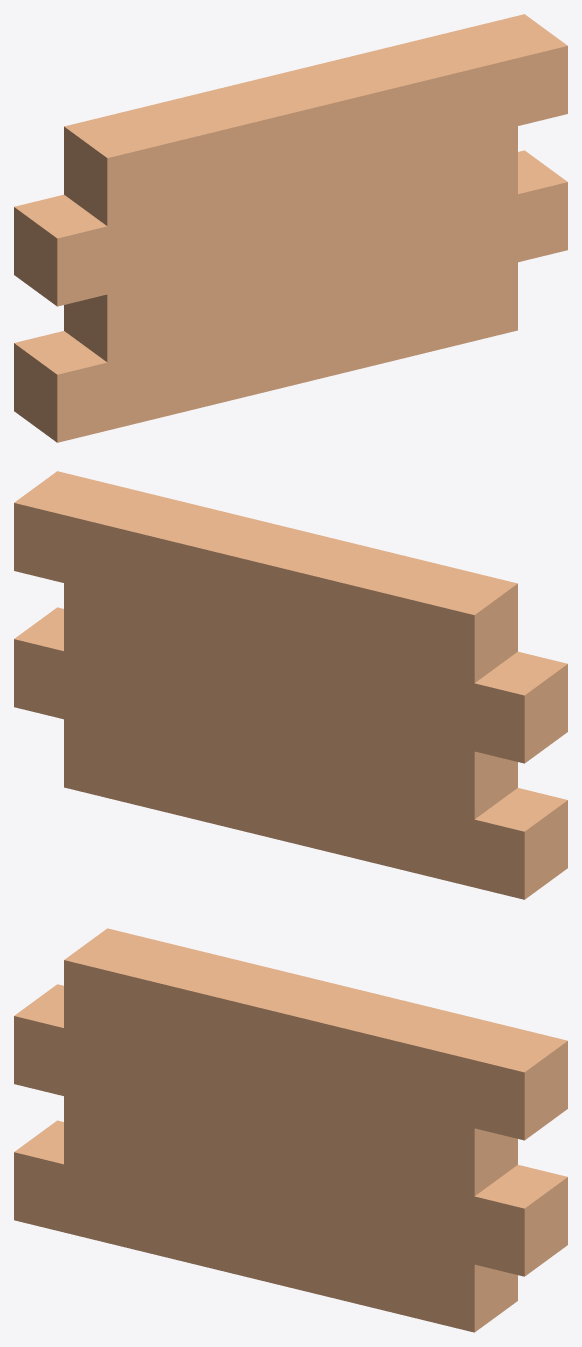
The picture shows the model from 3 angles, top to bottom: view 1: azimuth 30°, elevation 25°; view 2: azimuth 150°, elevation 25°; view 3: azimuth 330°, elevation 25°; orthographic projection.
Visible parts, largest first — view 1: Brick.012, Brick.008, Brick, Brick.014, Brick.013, Brick.015, Brick.004, Brick.007, Brick.003, Brick.001, Brick.006, Brick.009 (+4 smaller); view 2: Brick.012, Brick.008, Brick, Brick.014, Brick.013, Brick.015, Brick.004, Brick.007, Brick.003, Brick.001, Brick.006, Brick.009 (+4 smaller); view 3: Brick.015, Brick.007, Brick.013, Brick.012, Brick.014, Brick.003, Brick.011, Brick.008, Brick, Brick.005, Brick.001, Brick.002 (+4 smaller).
Part boxes in pixels (bbox=[...]): Brick.012: bbox=[64, 98, 222, 226]; Brick.008: bbox=[14, 194, 172, 306]; Brick: bbox=[14, 331, 172, 442]; Brick.014: bbox=[295, 42, 452, 169]; Brick.013: bbox=[179, 70, 337, 197]; Brick.015: bbox=[410, 14, 567, 141]; Brick.004: bbox=[64, 266, 222, 362]; Brick.007: bbox=[453, 150, 567, 277]; Brick.003: bbox=[402, 262, 517, 358]; Brick.001: bbox=[172, 318, 287, 414]; Brick.006: bbox=[337, 210, 452, 306]; Brick.009: bbox=[172, 182, 287, 278]; Brick.012: bbox=[359, 555, 517, 683]; Brick.008: bbox=[409, 651, 567, 763]; Brick: bbox=[409, 788, 567, 899]; Brick.014: bbox=[129, 499, 286, 626]; Brick.013: bbox=[244, 527, 402, 654]; Brick.015: bbox=[14, 471, 171, 598]; Brick.004: bbox=[359, 723, 517, 819]; Brick.007: bbox=[14, 607, 128, 734]; Brick.003: bbox=[64, 719, 179, 815]; Brick.001: bbox=[294, 775, 409, 871]; Brick.006: bbox=[129, 667, 244, 763]; Brick.009: bbox=[294, 639, 409, 735]; Brick.015: bbox=[409, 1012, 567, 1140]; Brick.007: bbox=[409, 1165, 567, 1276]; Brick.013: bbox=[179, 956, 337, 1083]; Brick.012: bbox=[64, 928, 221, 1055]; Brick.014: bbox=[294, 984, 452, 1112]; Brick.003: bbox=[359, 1236, 517, 1332]; Brick.011: bbox=[359, 1100, 517, 1196]; Brick.008: bbox=[14, 984, 128, 1111]; Brick: bbox=[14, 1120, 128, 1248]; Brick.005: bbox=[179, 1124, 294, 1220]; Brick.001: bbox=[129, 1180, 244, 1276]; Brick.002: bbox=[244, 1208, 359, 1304].
Size of the model in its own units: 1.02 by 0.52 by 0.15.
Materials: 1 (1 with a texture image).
